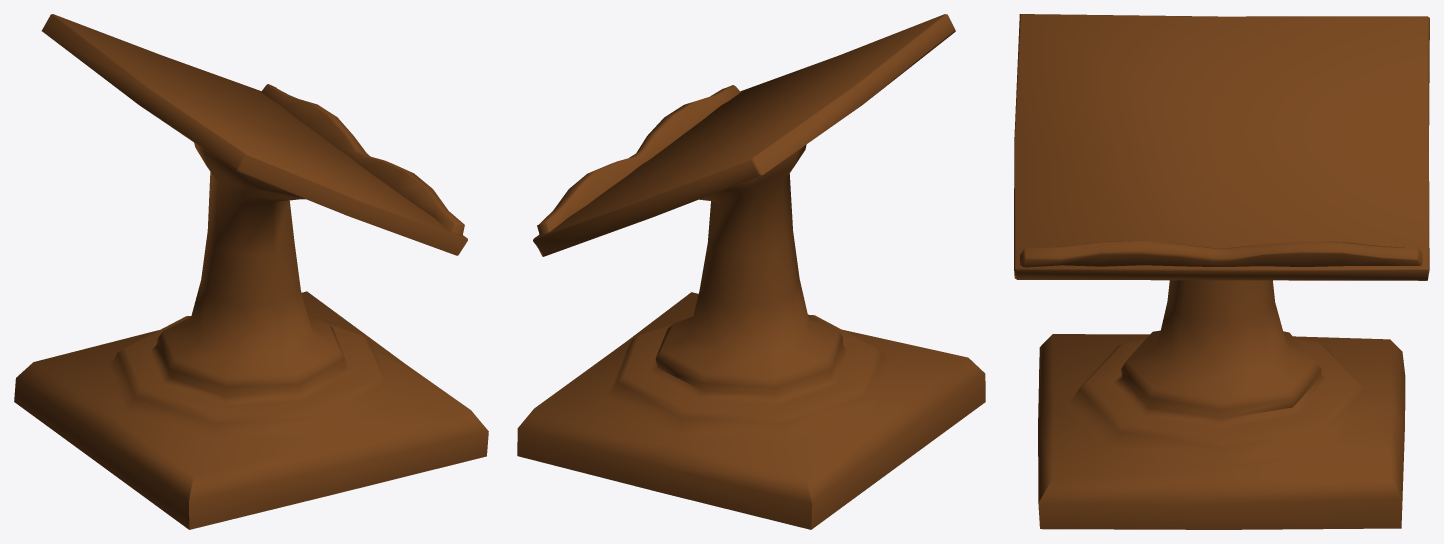
The model's file is Podium.fbx.
3 renders of one model, left to right at view 1: azimuth 30°, elevation 25°; view 2: azimuth 150°, elevation 25°; view 3: azimuth 270°, elevation 25°, orthographic. The views are drawn at different scales.
Parts seen in each view (by area): view 1: Podium; view 2: Podium; view 3: Podium.
Part boxes in pixels (box(x1,y1,x2,y2)): Podium: box(14, 14, 488, 529); Podium: box(517, 14, 985, 529); Podium: box(1014, 14, 1429, 529).
Size of the model in its own units: 190 by 225 by 218.
